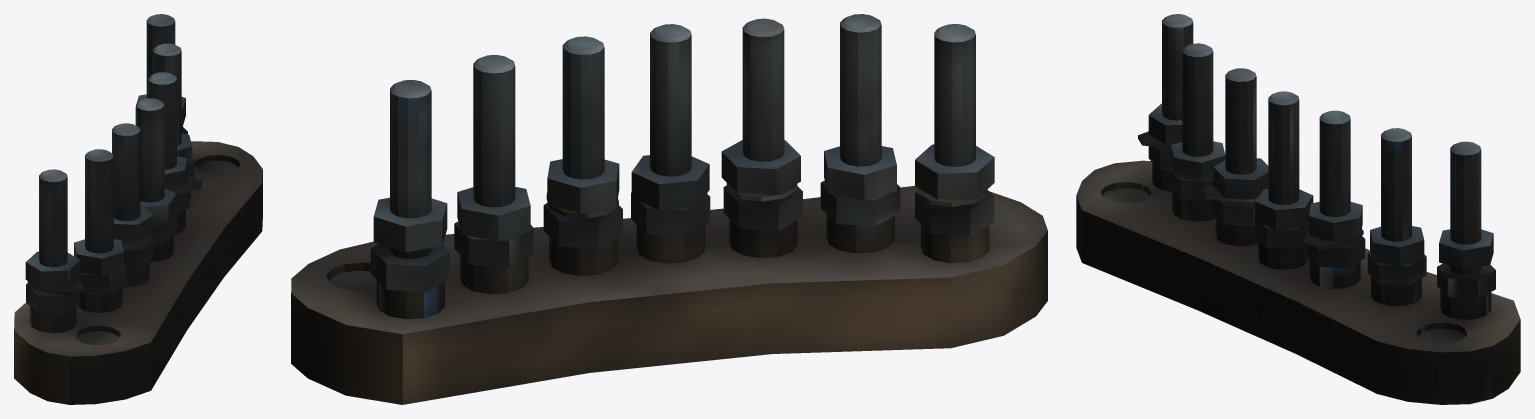
The model's file is pad_c.fbx.
The picture shows the model from 3 angles, left to right: view 1: azimuth 30°, elevation 25°; view 2: azimuth 150°, elevation 25°; view 3: azimuth 270°, elevation 25°; orthographic projection. The views are drawn at different scales.
Parts seen in each view (by area): view 1: pad_c; view 2: pad_c; view 3: pad_c.
Boxes of the visible parts, x1,y1,x2,y2 form: pad_c: (14, 14, 262, 404); pad_c: (291, 14, 1047, 404); pad_c: (1076, 14, 1520, 404).
Bounding box in the file's own units: 0.0728 × 0.0381 × 0.0713.
